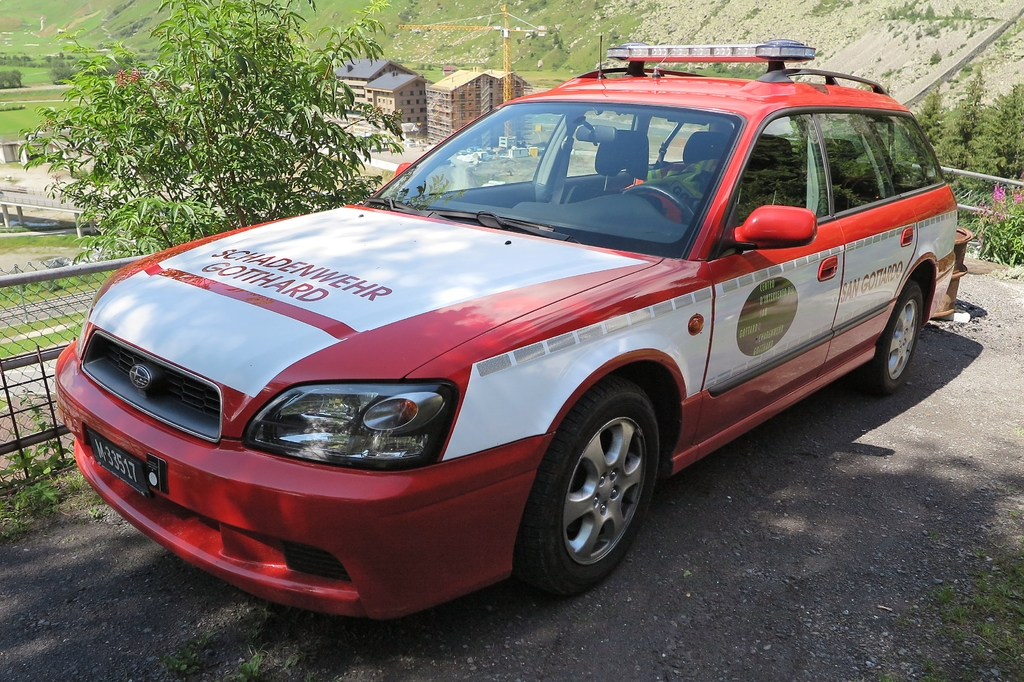Car: (54, 15, 957, 621)
